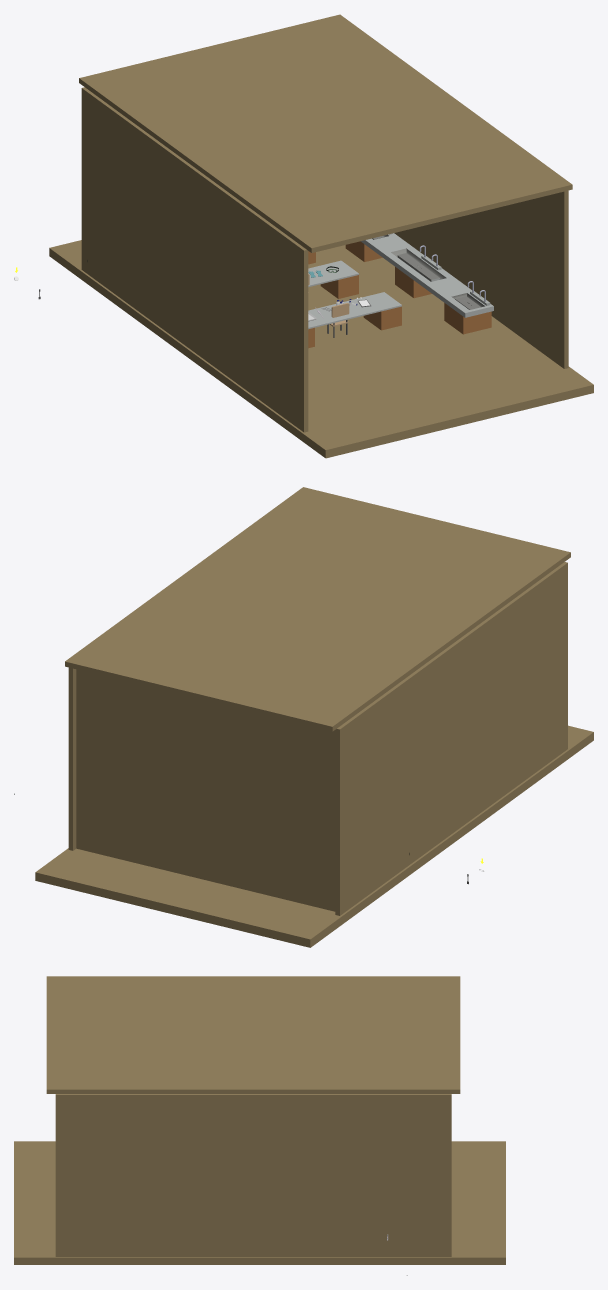
Rendered from VirtualChemLab.glb.
3 views of the same model, one above another, from view 1: azimuth 30°, elevation 25°; view 2: azimuth 150°, elevation 25°; view 3: azimuth 270°, elevation 25° (orthographic). The views are drawn at different scales.
Visible parts, largest first — view 1: Plane.004, Plane.001, Plane.002, Cube.020, TableHead, Cube.019, Cube.005; view 2: Plane.004, Plane, Plane.001, Plane.002; view 3: Plane.001, Plane.004, Plane.002.
Boxes of the visible parts, x1,y1,x2,y2 form: Plane.004: (79, 14, 572, 252); Plane.001: (81, 87, 568, 432); Plane.002: (49, 240, 593, 458); Cube.020: (361, 233, 493, 317); TableHead: (308, 260, 401, 329); Cube.019: (345, 241, 491, 334); Cube.005: (308, 251, 401, 348); Plane.004: (65, 487, 570, 731); Plane: (76, 669, 335, 911); Plane.001: (68, 562, 567, 915); Plane.002: (35, 725, 593, 947); Plane.001: (55, 1094, 451, 1256); Plane.004: (46, 976, 460, 1093); Plane.002: (14, 1141, 505, 1264).
Bounding box in the file's own units: 245 × 103 × 310.
